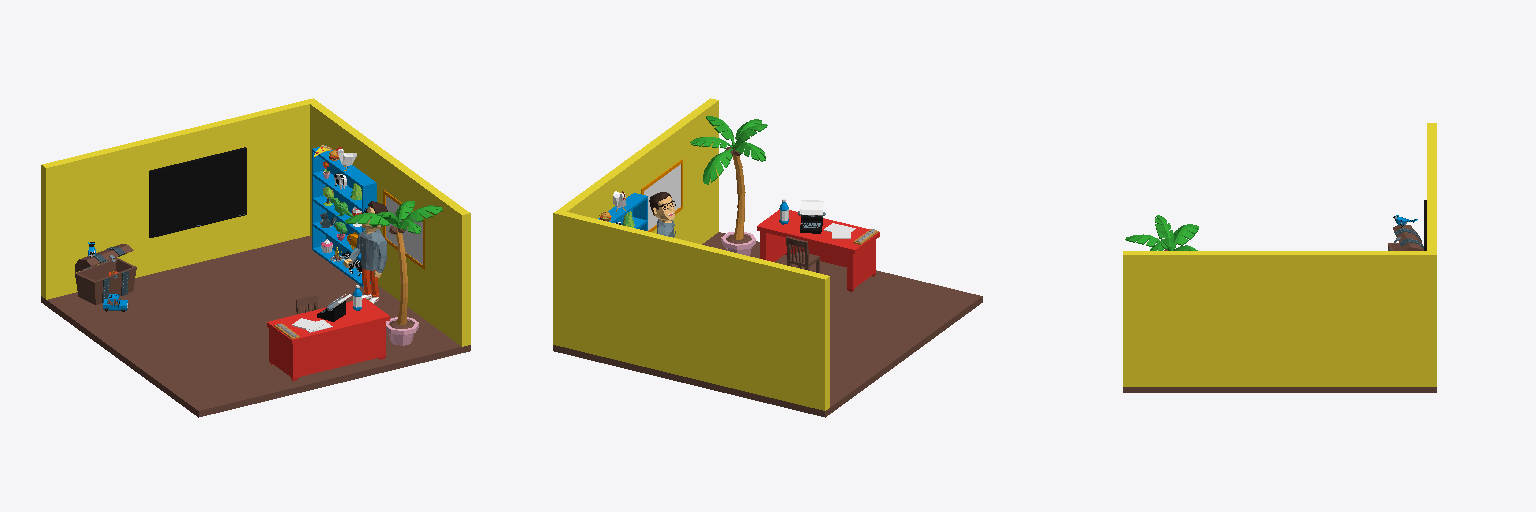
The model's file is reexported.obj.
3 renders of one model, left to right at view 1: azimuth 30°, elevation 25°; view 2: azimuth 150°, elevation 25°; view 3: azimuth 270°, elevation 25°, orthographic.
Visible parts, largest first — view 1: Bush_01_Icosphere.001; view 2: Bush_01_Icosphere.001; view 3: Bush_01_Icosphere.001.
Part boxes in pixels (bbox=[...]): Bush_01_Icosphere.001: bbox=[41, 98, 470, 417]; Bush_01_Icosphere.001: bbox=[553, 98, 982, 417]; Bush_01_Icosphere.001: bbox=[1123, 123, 1436, 392].
Bounding box in the file's own units: 15.49 × 7.72 × 15.49.